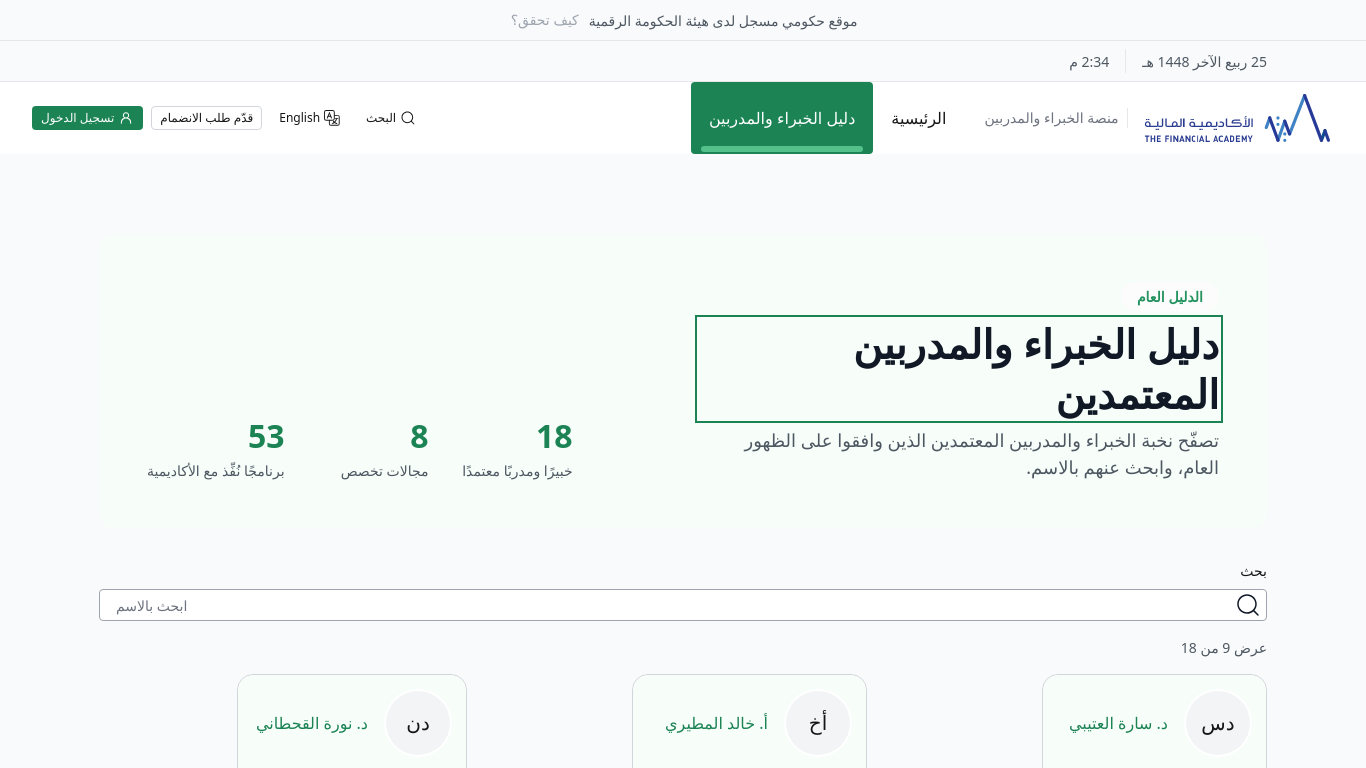
EH-PUB-02 — Trainer Directory › switches language across the directory
The image size is (1366, 768).
expect the heading "دليل الخبراء والمدربين المعتمدين" is shown: met, box [853,316,1219,421]
Click the button "English": (310, 118) [270,106,349,130]
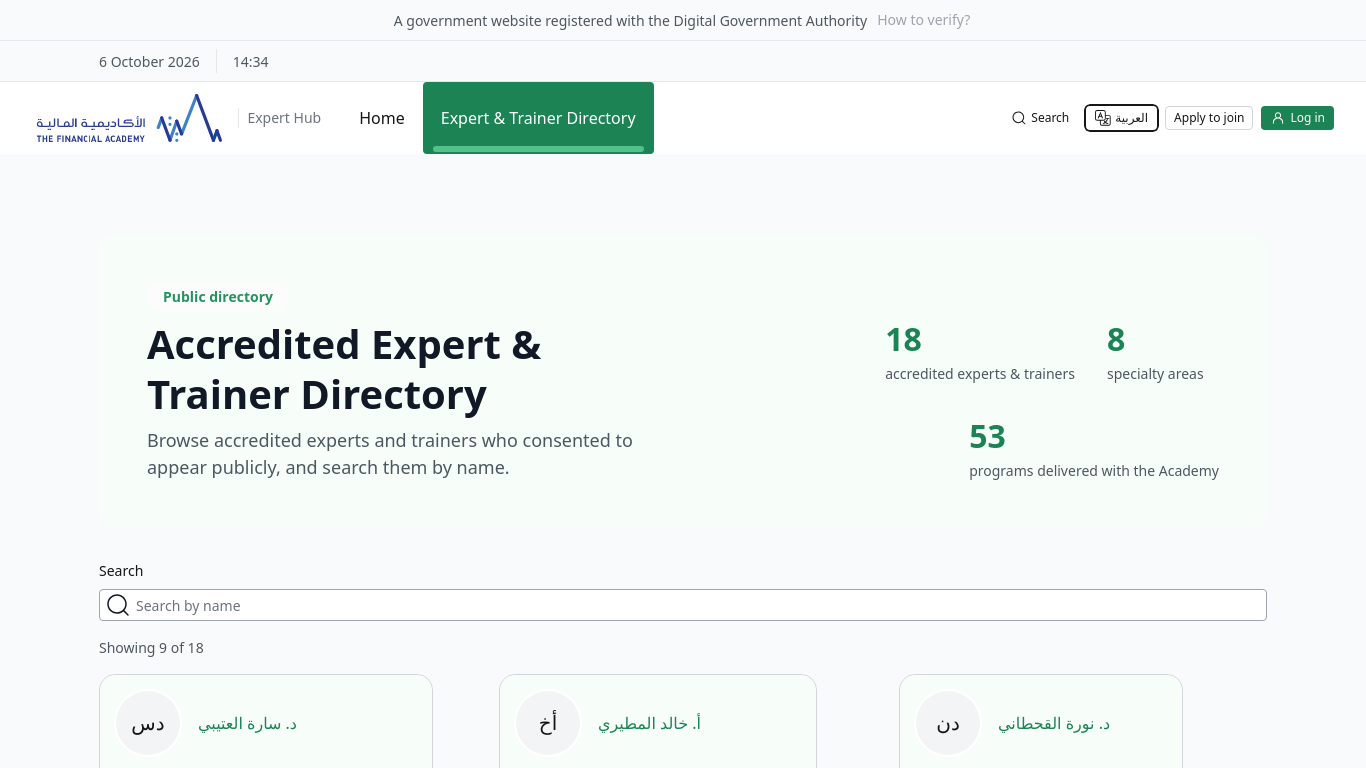
expect the heading "Accredited Expert & Trainer Directory" is shown: met, box [147,316,541,421]
